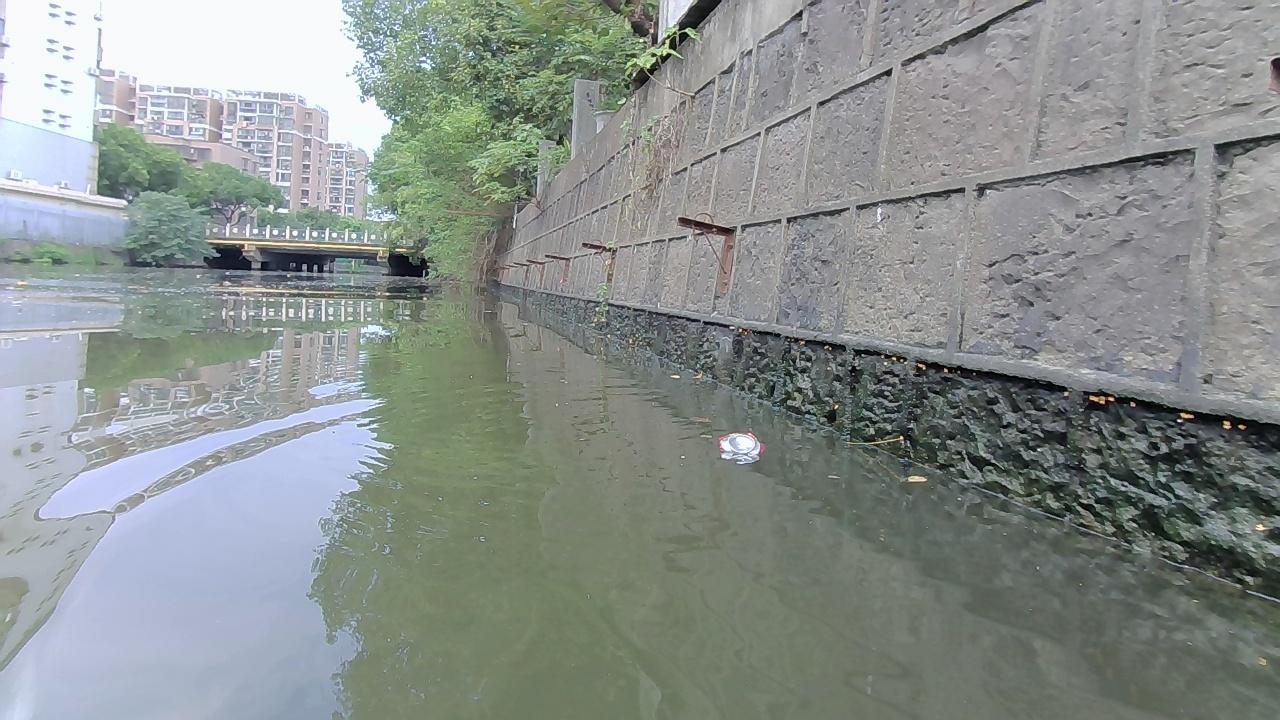bottle: (717, 430, 763, 454)
